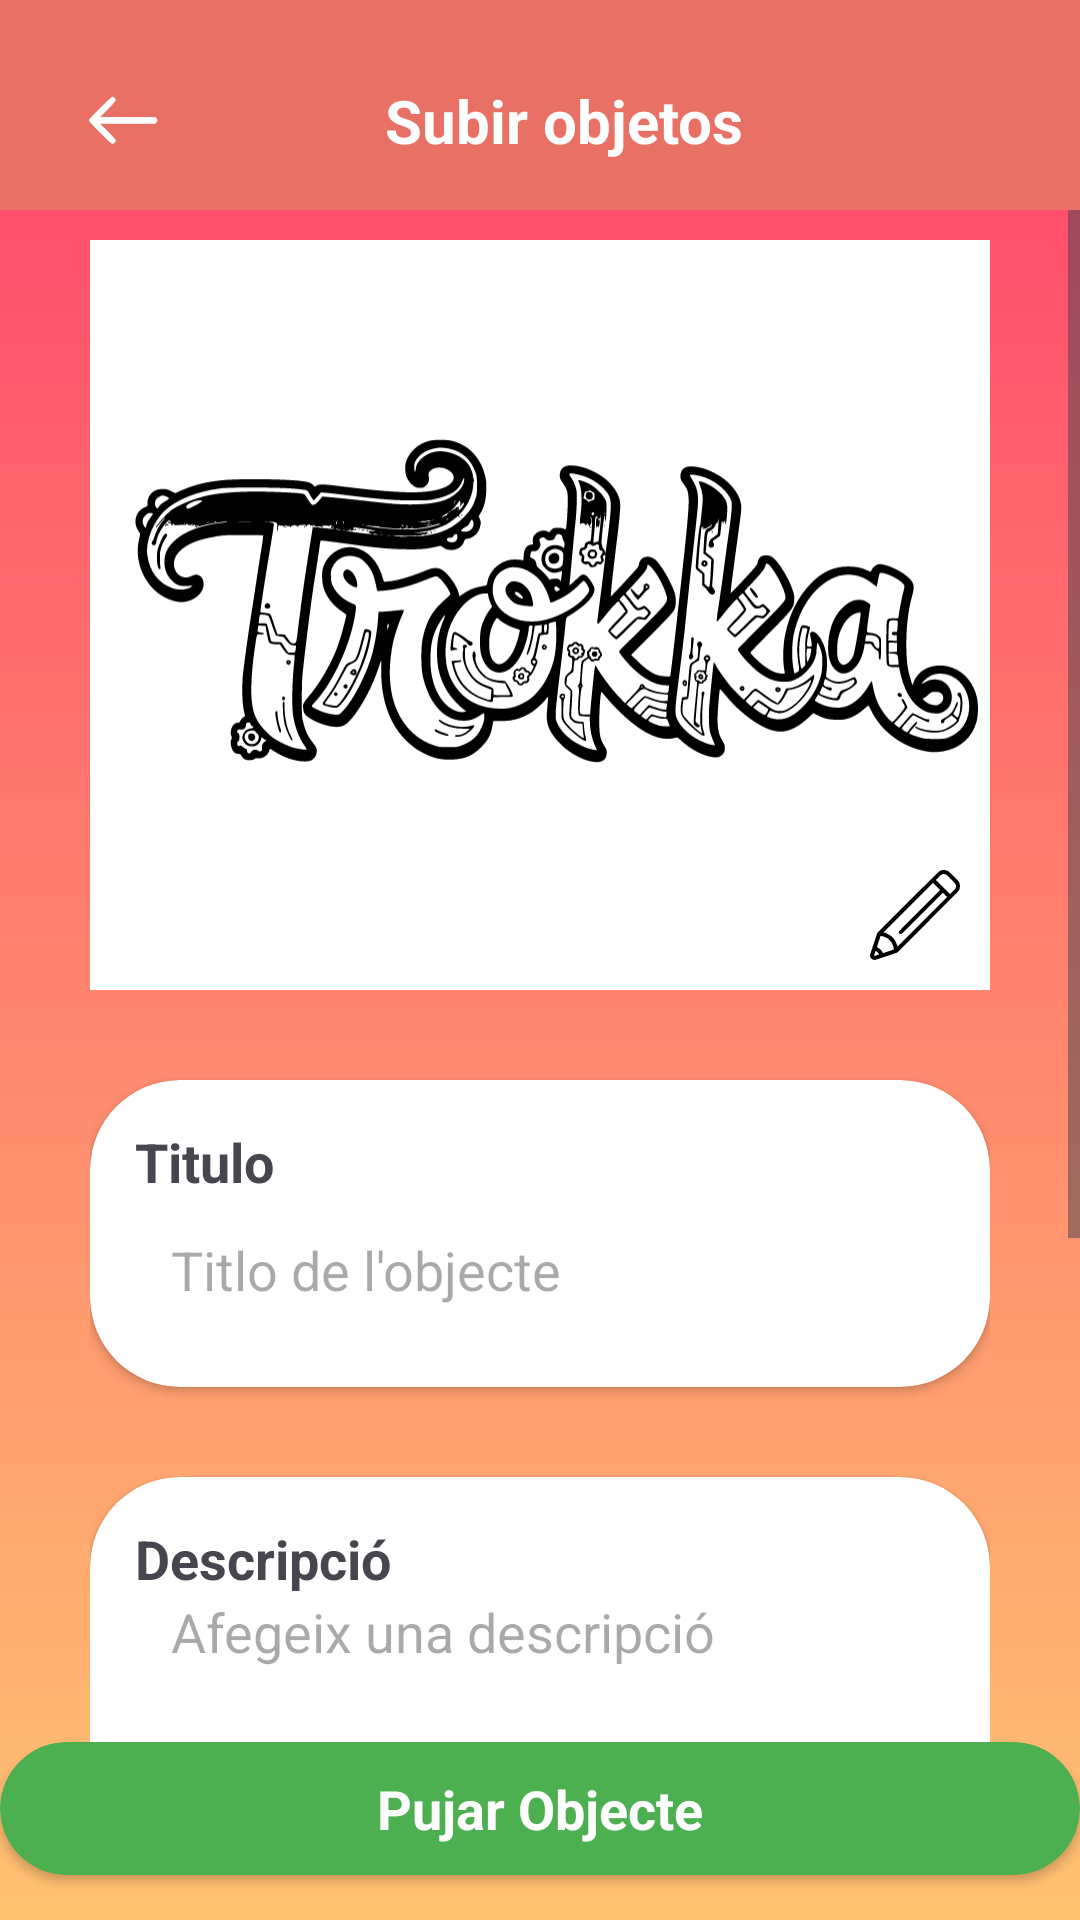

Screen size 1080x1920. Icon name, then its box in pixels as box(x1, y1, x2, y2):
Tornar enrere: box(89, 96, 158, 144)
